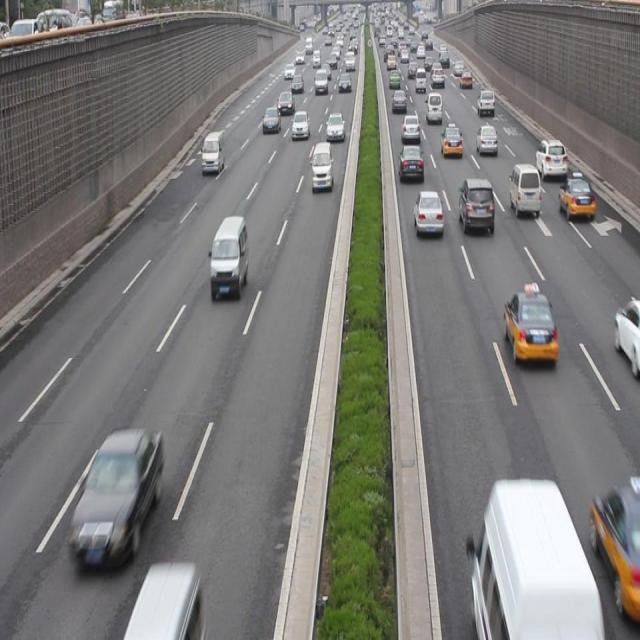car: (68, 430, 162, 560), (591, 477, 640, 616), (502, 287, 556, 367), (457, 177, 494, 238), (613, 299, 640, 362), (558, 173, 591, 223), (412, 192, 442, 242), (534, 138, 565, 181), (399, 144, 423, 183), (440, 124, 460, 157), (476, 122, 496, 154), (326, 112, 346, 143), (400, 115, 419, 142), (291, 111, 310, 138), (263, 106, 281, 133)
truck: (464, 480, 600, 634), (209, 216, 246, 298), (508, 166, 539, 214), (310, 143, 331, 189), (202, 131, 223, 174)
